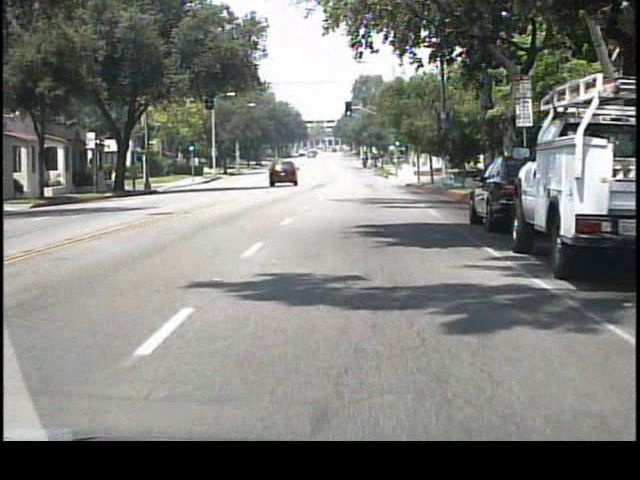person: (112, 167, 120, 193)
